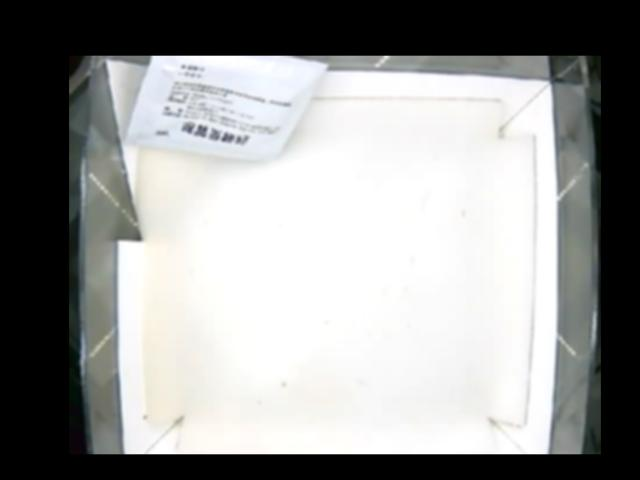Medicine: (124, 56, 328, 161)
